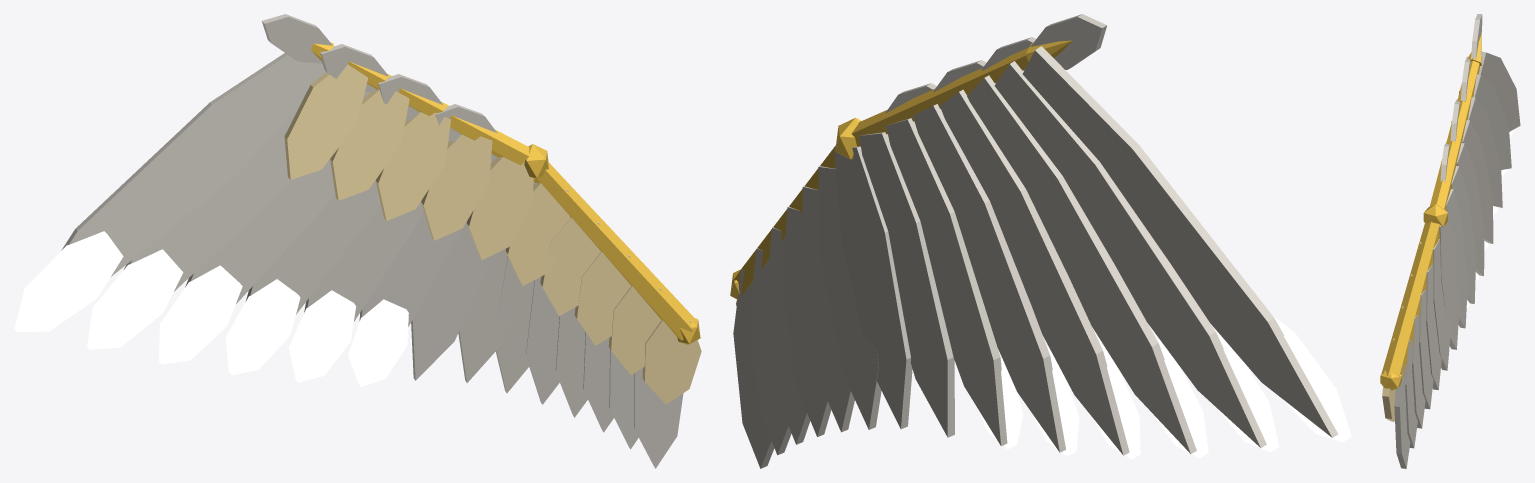
File: S4_Light_Wings_R.fbx
3 views of the same model, side by side, from view 1: azimuth 30°, elevation 25°; view 2: azimuth 150°, elevation 25°; view 3: azimuth 270°, elevation 25° (orthographic). The views are drawn at different scales.
Parts seen in each view (by area): view 1: S4_Light_Wings_R; view 2: S4_Light_Wings_R; view 3: S4_Light_Wings_R.
Part boxes in pixels (x1,y1,x2,y2): S4_Light_Wings_R: (14, 14, 701, 468); S4_Light_Wings_R: (730, 14, 1351, 468); S4_Light_Wings_R: (1380, 14, 1520, 468).
Bounding box in the file's own units: 1.21 × 0.9491 × 0.3524.
